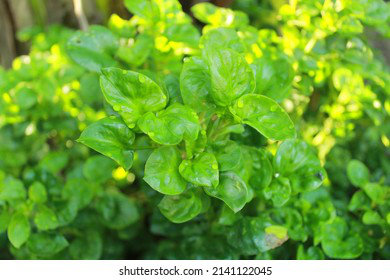Bayam: (109, 46, 337, 225)
